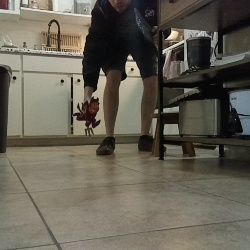sparky: (70, 95, 101, 139)
